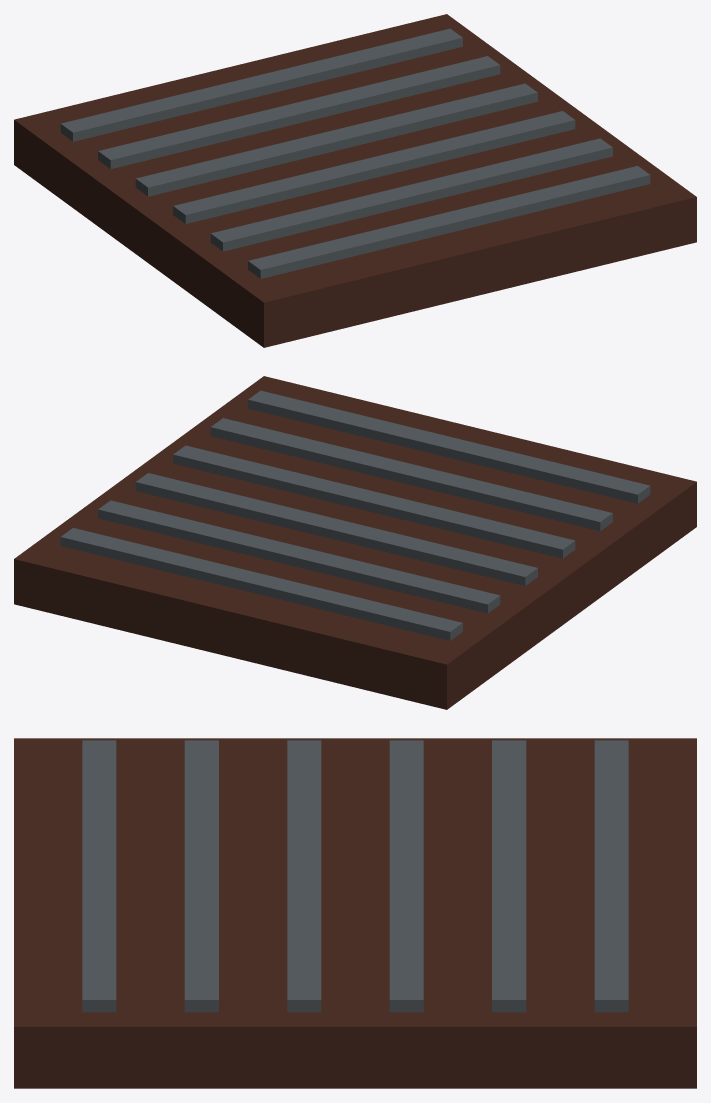
Rendered from kit_floor_grate.glb.
The picture shows the model from 3 angles, top to bottom: view 1: azimuth 30°, elevation 25°; view 2: azimuth 150°, elevation 25°; view 3: azimuth 270°, elevation 25°; orthographic projection. The views are drawn at different scales.
Visible parts, largest first — view 1: frame, bar3, bar4, bar0, bar1, bar2, bar5; view 2: frame, bar2, bar1, bar0, bar3, bar4, bar5; view 3: frame, bar0, bar1, bar2, bar3, bar4, bar5.
Part boxes in pixels (x1,y1,x2,y2): frame: (14, 14, 696, 347); bar3: (135, 83, 537, 196); bar4: (98, 56, 500, 169); bar0: (248, 166, 650, 278); bar1: (210, 138, 612, 251); bar2: (173, 111, 575, 223); bar5: (60, 28, 462, 141); frame: (14, 376, 696, 709); bar2: (173, 445, 575, 558); bar1: (210, 418, 612, 531); bar0: (248, 390, 650, 503); bar3: (135, 473, 537, 585); bar4: (98, 500, 500, 613); bar5: (60, 528, 462, 640); frame: (14, 738, 696, 1088); bar0: (82, 740, 116, 1012); bar1: (184, 740, 218, 1012); bar2: (287, 740, 321, 1012); bar3: (389, 740, 423, 1012); bar4: (492, 740, 526, 1012); bar5: (594, 740, 628, 1012).
Bounding box in the file's own units: 1 × 0.12 × 1.
